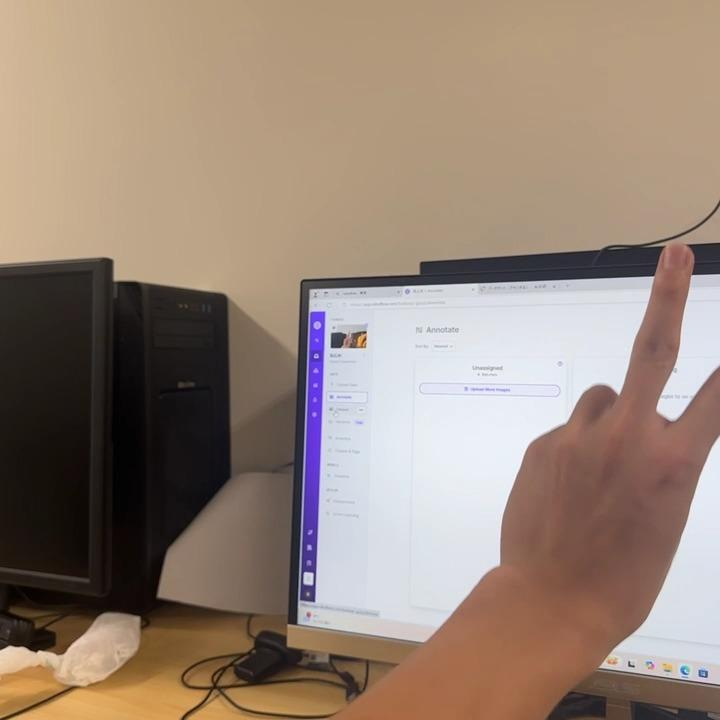without_gloves: (446, 187, 720, 668)
